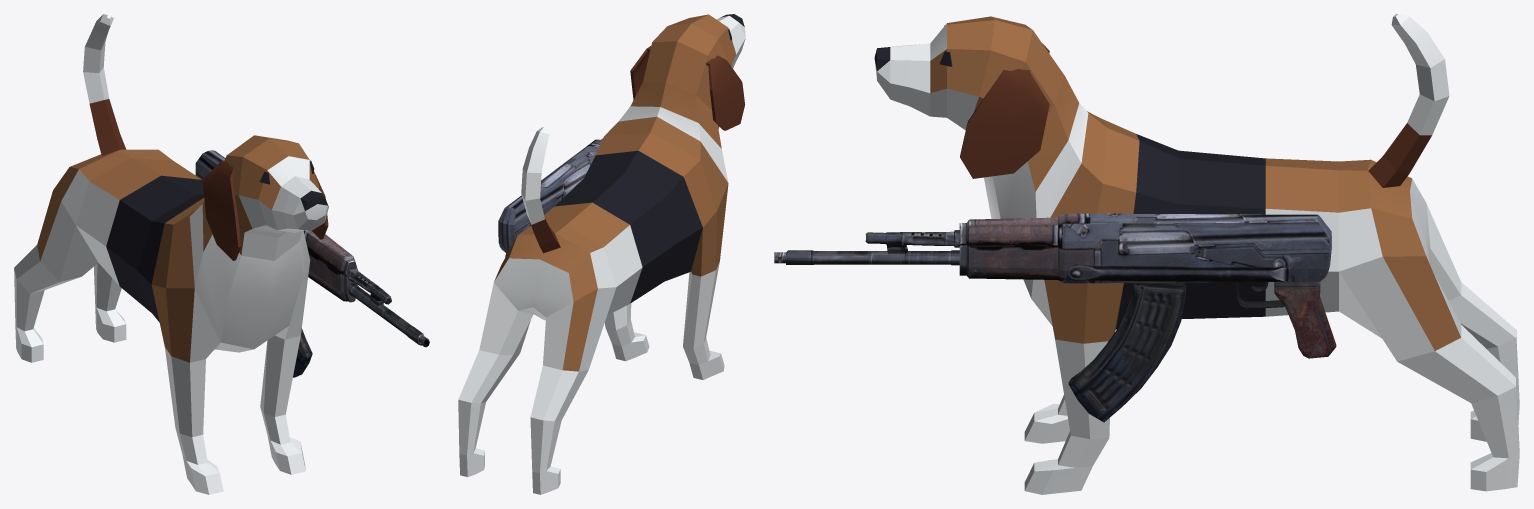
Rendered from beagle-ak47.obj.
The picture shows the model from 3 angles, left to right: view 1: azimuth 30°, elevation 25°; view 2: azimuth 150°, elevation 25°; view 3: azimuth 270°, elevation 25°; orthographic projection. The views are drawn at different scales.
Visible parts, largest first — view 1: beagle, gun_AK47; view 2: beagle, gun_AK47; view 3: beagle, gun_AK47.
Boxes of the visible parts, x1,y1,x2,y2 form: beagle: (14,14,328,494); gun_AK47: (195,150,429,377); beagle: (458,14,745,494); gun_AK47: (498,138,602,256); beagle: (874,14,1519,494); gun_AK47: (774,213,1336,422).
Bounding box in the file's own units: 36.85 × 85.58 × 129.
